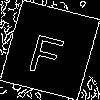F: (25, 25, 69, 77)
